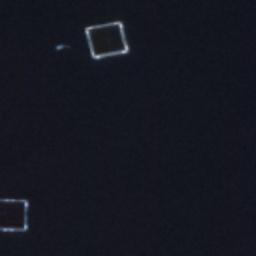square_solid: (81, 16, 133, 63), (1, 193, 32, 236)
